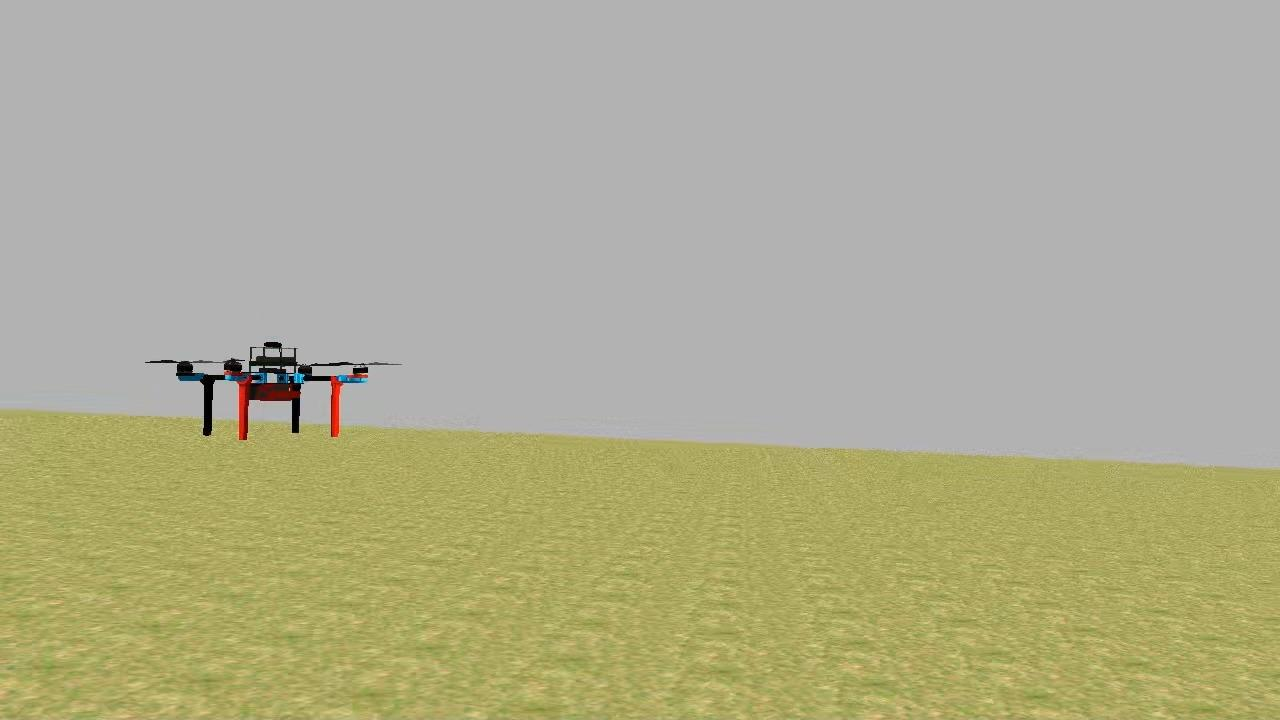UAV: (170, 313, 374, 457)
